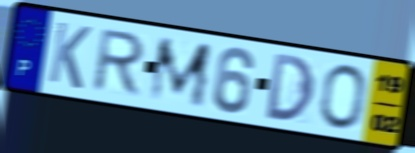6: (210, 45, 256, 116)
D: (264, 51, 317, 124)
K: (45, 19, 94, 93)
M: (146, 36, 214, 110)
O: (318, 62, 368, 133)
R: (88, 27, 149, 99)
